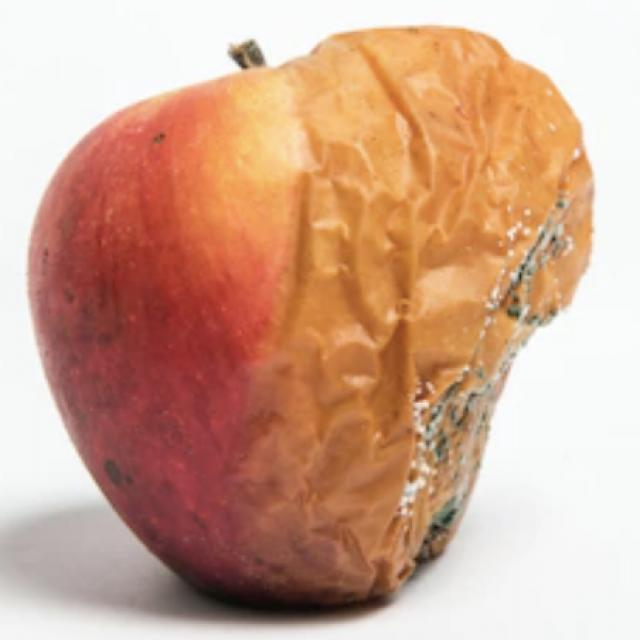Rotten: (60, 32, 635, 595)
